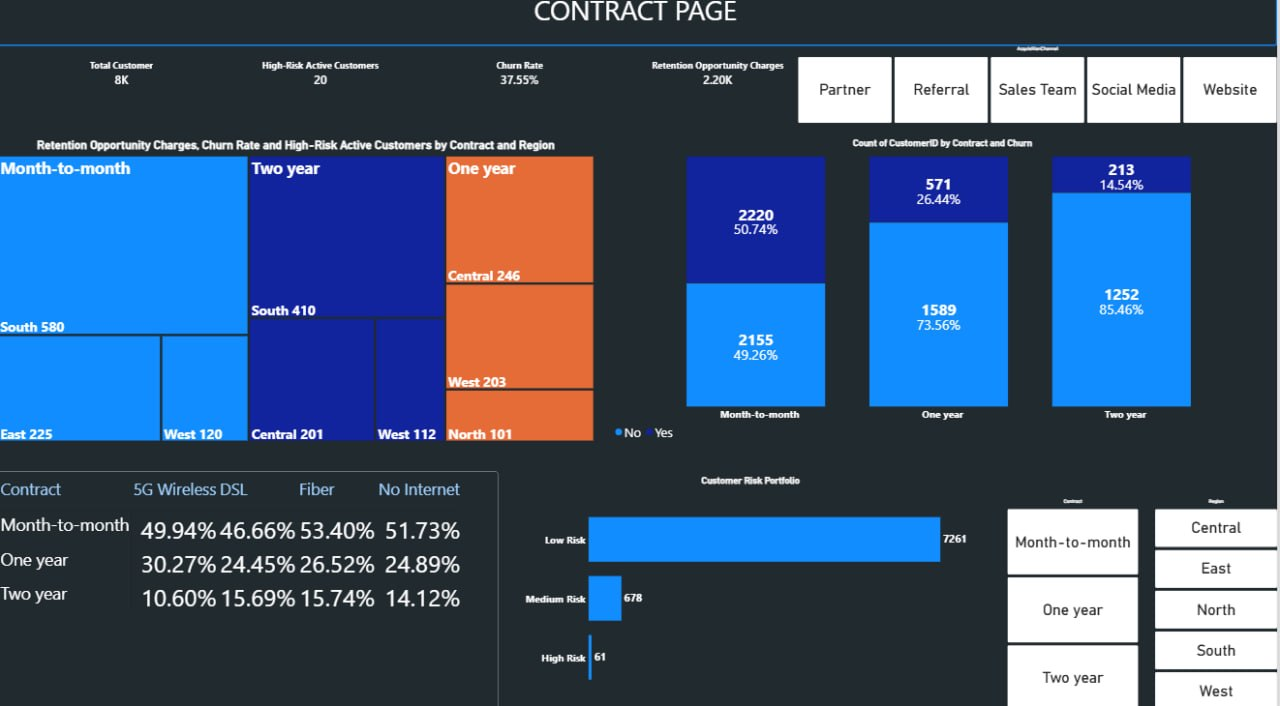

Layout of this report page (visuals, bound fields, positions):
{"tool":"powerbi","page":{"name":"Page 5","canvas":[3840,2160],"ordinal":4},"visuals":[{"type":"cardVisual","fields":{"Data":["DateTable.Total Customer"]},"box":[215.1,167.9,340.2,164.1],"z":0},{"type":"cardVisual","fields":{"Data":["customer_churn_dataset.Churn Rate"]},"box":[1403.6,167.9,340,164],"z":1000},{"type":"cardVisual","fields":{"Data":["DateTable.High-Risk Active Customers"]},"box":[737.2,165.3,480.1,165.3],"z":2000},{"type":"cardVisual","fields":{"Data":["DateTable.Retention Opportunity Charges"]},"box":[1951.9,165.3,432.9,165.3],"z":3000},{"type":"textbox","box":[0,0,3840.1,166.5],"z":4000},{"type":"barChart","title":"Customer Risk Portfolio","fields":{"Category":["customer_churn_dataset.Customer Risk Band"],"Y":["CountNonNull(customer_churn_dataset.CustomerID)"]},"box":[1575.1,1437,1381,720.4],"z":5000},{"type":"pivotTable","fields":{"Columns":["customer_churn_dataset.InternetType"],"Rows":["customer_churn_dataset.Contract"],"Values":["customer_churn_dataset.Churn Rate"]},"box":[0,1440.5,1509.3,720.2],"z":6000},{"type":"treemap","fields":{"Details":["customer_churn_dataset.Region"],"Group":["customer_churn_dataset.Contract"],"Values":["DateTable.Retention Opportunity Charges"]},"box":[0,425.5,1810.3,936.9],"z":6001},{"type":"hundredPercentStackedColumnChart","fields":{"Category":["customer_churn_dataset.Contract"],"Series":["customer_churn_dataset.Churn"],"Y":["CountNonNull(customer_churn_dataset.CustomerID)"]},"box":[1840.1,425.5,2000.6,936.9],"z":6002},{"type":"advancedSlicerVisual","fields":{"Values":["customer_churn_dataset.Region"]},"box":[3475,1519.1,365.8,638.3],"z":6003},{"type":"advancedSlicerVisual","fields":{"Values":["customer_churn_dataset.Contract"]},"box":[3033,1520.1,391.9,638.3],"z":6004},{"type":"advancedSlicerVisual","fields":{"Values":["customer_churn_dataset.AcquisitionChannel"]},"box":[2407.5,168,1433.3,231.4],"z":6005}]}

Visuals, with their boxes in screenshot pixels (x1, y1, x2, y2), scaled from the page's 3840x2160 canvas onto the 1280x706 screenshot:
cardVisual - DateTable.Total Customer: box(72, 55, 185, 109)
cardVisual - customer_churn_dataset.Churn Rate: box(468, 55, 581, 108)
cardVisual - DateTable.High-Risk Active Customers: box(246, 54, 406, 108)
cardVisual - DateTable.Retention Opportunity Charges: box(651, 54, 795, 108)
textbox: box(0, 0, 1279, 54)
"Customer Risk Portfolio" barChart: box(525, 470, 985, 705)
pivotTable - customer_churn_dataset.InternetType x customer_churn_dataset.Contract: box(0, 471, 503, 705)
treemap - customer_churn_dataset.Region x customer_churn_dataset.Contract: box(0, 139, 603, 445)
hundredPercentStackedColumnChart - customer_churn_dataset.Contract x customer_churn_dataset.Churn: box(613, 139, 1279, 445)
advancedSlicerVisual - customer_churn_dataset.Region: box(1158, 497, 1279, 705)
advancedSlicerVisual - customer_churn_dataset.Contract: box(1011, 497, 1142, 705)
advancedSlicerVisual - customer_churn_dataset.AcquisitionChannel: box(802, 55, 1279, 131)
